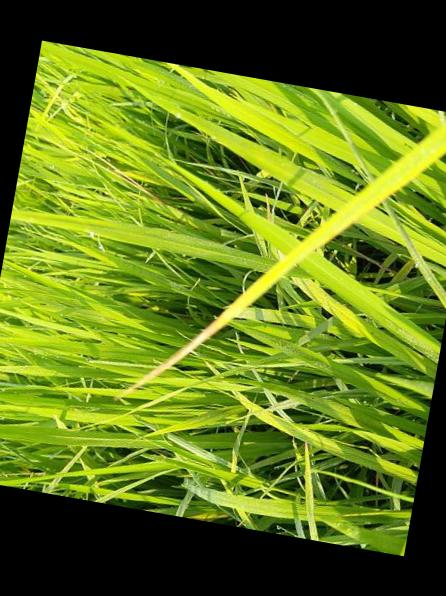Leaf Blight: (120, 123, 446, 398)
